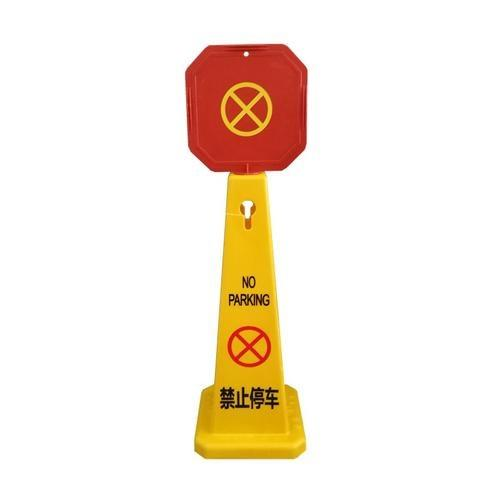cone_barrel: (185, 164, 311, 462)
